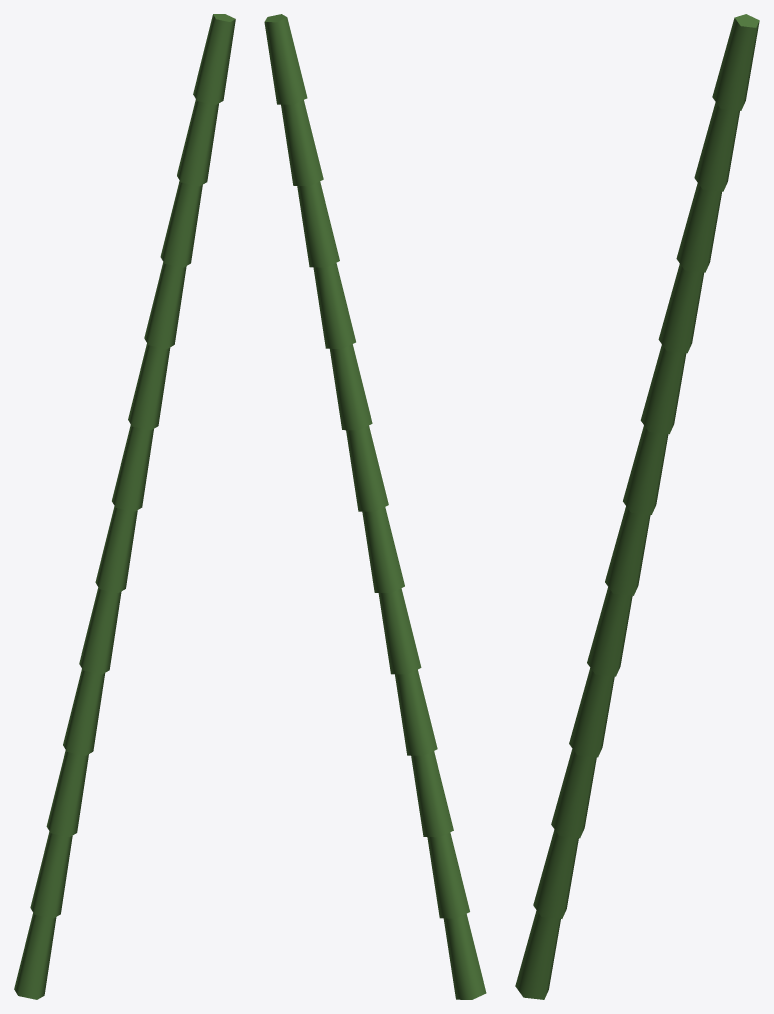
The model's file is stem-arching.glb.
3 views of the same model, side by side, from view 1: azimuth 30°, elevation 25°; view 2: azimuth 150°, elevation 25°; view 3: azimuth 330°, elevation 25° (orthographic). The views are drawn at different scales.
Parts seen in each view (by area): view 1: tint-surface; view 2: tint-surface; view 3: tint-surface.
Part boxes in pixels (x1,y1,x2,y2): tint-surface: [14, 14, 235, 999]; tint-surface: [264, 14, 486, 999]; tint-surface: [515, 14, 759, 999].
Size of the model in its own units: 0.246 by 1.01 by 0.0289.
